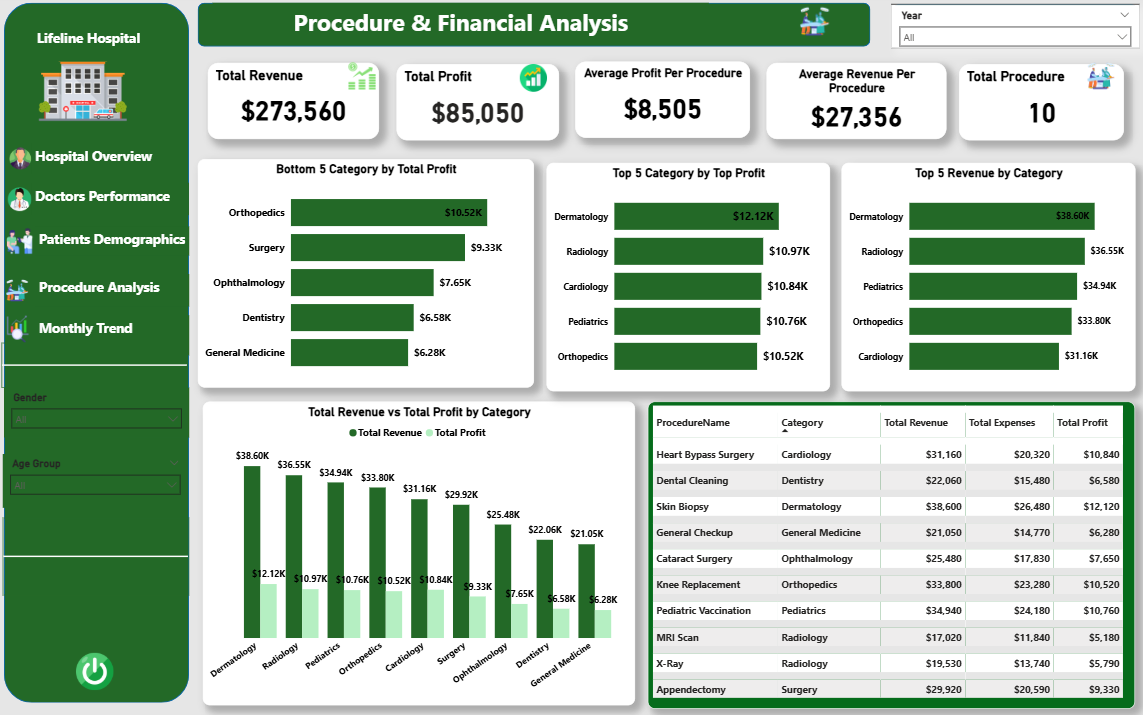

This screenshot's page, from the dashboard's own definition file:
{"tool":"powerbi","page":{"name":"Procedure","canvas":[1600,1000],"ordinal":3},"visuals":[{"type":"card","title":"Total Revenue","fields":{"Values":["Measure_Table.Total Revenue"]},"box":[295.4,95,236.7,105.4],"z":0},{"type":"card","title":"Total Profit","fields":{"Values":["Measure_Table.Total Profit"]},"box":[556.3,96.8,224.6,105.4],"z":1000},{"type":"shape","box":[13.8,12.1,255.7,967.5],"z":2000},{"type":"shape","box":[281.6,12.1,929.5,60.5],"z":3000},{"type":"image","box":[708.4,96.8,74.3,38],"z":4000},{"type":"image","box":[485.5,93.3,46.6,39.7],"z":5000},{"type":"image","box":[20.7,205.6,31.1,43.2],"z":6000},{"type":"image","box":[48.4,69.1,148.6,127.9],"z":7000},{"type":"textbox","box":[22.5,43.2,216,50.1],"z":8000},{"type":"image","box":[81.2,908.8,115.8,55.3],"z":9000},{"type":"image","box":[19,260.9,32.8,44.9],"z":10000},{"type":"image","box":[13.8,321.4,43.2,39.7],"z":11000},{"type":"image","box":[1112.7,15.5,43.2,44.9],"z":12000},{"type":"image","box":[13.8,444,38,38],"z":13000},{"type":"shape","box":[1240.5,13.8,342.1,60.5],"z":14000},{"type":"slicer","fields":{"Values":["DateTable.Year"]},"box":[1240.5,15.5,342.1,58.7],"z":15000},{"type":"textbox","box":[302.4,12.1,685.9,57],"z":16000},{"type":"textbox","box":[51.8,205.6,216,43.2],"z":17000},{"type":"textbox","box":[51.8,260.9,217.7,44.9],"z":18000},{"type":"textbox","box":[57,321.4,212.5,39.7],"z":19000},{"type":"textbox","box":[57,387,212.5,44.9],"z":20000},{"type":"textbox","box":[57,444,212.5,55.3],"z":21000},{"type":"slicer","fields":{"Values":["Dim_Patients_Table.Patients_Gender"]},"box":[13.8,544.2,255.7,69.1],"z":22000},{"type":"slicer","fields":{"Values":["Dim_Patients_Table.Age_Group"]},"box":[12.1,635.8,255.7,74.3],"z":23000},{"type":"shape","box":[10.4,482,257.4,62.2],"z":24000},{"type":"shape","box":[12.1,723.9,257.4,107.1],"z":25000},{"type":"clusteredColumnChart","title":"Total Revenue vs Total Profit by Category","fields":{"Category":["Dim_Procedure_Table.Category"],"Y":["Measure_Table.Total Revenue","Measure_Table.Total Profit"]},"box":[288.5,563.2,597.8,419.8],"z":26000},{"type":"tableEx","fields":{"Values":["Dim_Procedure_Table.ProcedureName","Dim_Procedure_Table.Category","Measure_Table.Total Revenue","Measure_Table.Total Expenses","Measure_Table.Total Profit"]},"box":[903.6,563.2,673.8,425],"z":27000},{"type":"clusteredBarChart","title":"Bottom 5 Category by Total Profit","fields":{"Category":["Dim_Procedure_Table.Category"],"Y":["Measure_Table.Total Profit"]},"box":[281.6,228.1,464.8,316.2],"z":28000},{"type":"clusteredBarChart","title":"Top 5 Category by Top Profit","fields":{"Category":["Dim_Procedure_Table.Category"],"Y":["Measure_Table.Total Profit"]},"box":[763.7,233.2,392.2,316.2],"z":29000},{"type":"clusteredBarChart","title":"Top 5 Revenue by Category","fields":{"Category":["Dim_Procedure_Table.Category"],"Y":["Measure_Table.Total Revenue"]},"box":[1171.4,233.2,406,316.2],"z":30000},{"type":"card","title":"Average Profit Per Procedure","fields":{"Values":["Measure_Table.Average Profit Per Procedure"]},"box":[803.4,93.3,241.9,105.4],"z":31000},{"type":"card","title":"Average Revenue Per Procedure","fields":{"Values":["Measure_Table.Average Revenue Per Procedure"]},"box":[1067.7,95,248.8,105.4],"z":32000},{"type":"card","title":"Total Procedure","fields":{"Values":["Measure_Table.Total Procedure"]},"box":[1333.8,96.8,228.1,105.4],"z":33000},{"type":"image","box":[1510,93.3,39.7,39.7],"z":34000},{"type":"image","box":[15.5,387,32.8,44.9],"z":35000}]}

Visuals, with their boxes in screenshot pixels (x1, y1, x2, y2), scaled from the page's 1600x1000 canvas onto the 1143x715 screenshot:
"Total Revenue" card: crop(211, 68, 380, 143)
"Total Profit" card: crop(397, 69, 558, 145)
shape: crop(10, 9, 193, 700)
shape: crop(201, 9, 865, 52)
image: crop(506, 69, 559, 96)
image: crop(347, 67, 380, 95)
image: crop(15, 147, 37, 178)
image: crop(35, 49, 141, 141)
textbox: crop(16, 31, 170, 67)
image: crop(58, 650, 141, 689)
image: crop(14, 187, 37, 219)
image: crop(10, 230, 41, 258)
image: crop(795, 11, 826, 43)
image: crop(10, 317, 37, 345)
shape: crop(886, 10, 1131, 53)
slicer - DateTable.Year: crop(886, 11, 1131, 53)
textbox: crop(216, 9, 706, 49)
textbox: crop(37, 147, 191, 178)
textbox: crop(37, 187, 193, 219)
textbox: crop(41, 230, 193, 258)
textbox: crop(41, 277, 193, 309)
textbox: crop(41, 317, 193, 357)
slicer - Dim_Patients_Table.Patients_Gender: crop(10, 389, 193, 439)
slicer - Dim_Patients_Table.Age_Group: crop(9, 455, 191, 508)
shape: crop(7, 345, 191, 389)
shape: crop(9, 518, 193, 594)
"Total Revenue vs Total Profit by Category" clusteredColumnChart: crop(206, 403, 633, 703)
tableEx - Dim_Procedure_Table.ProcedureName x Dim_Procedure_Table.Category: crop(646, 403, 1127, 707)
"Bottom 5 Category by Total Profit" clusteredBarChart: crop(201, 163, 533, 389)
"Top 5 Category by Top Profit" clusteredBarChart: crop(546, 167, 826, 393)
"Top 5 Revenue by Category" clusteredBarChart: crop(837, 167, 1127, 393)
"Average Profit Per Procedure" card: crop(574, 67, 747, 142)
"Average Revenue Per Procedure" card: crop(763, 68, 940, 143)
"Total Procedure" card: crop(953, 69, 1116, 145)
image: crop(1079, 67, 1107, 95)
image: crop(11, 277, 35, 309)
